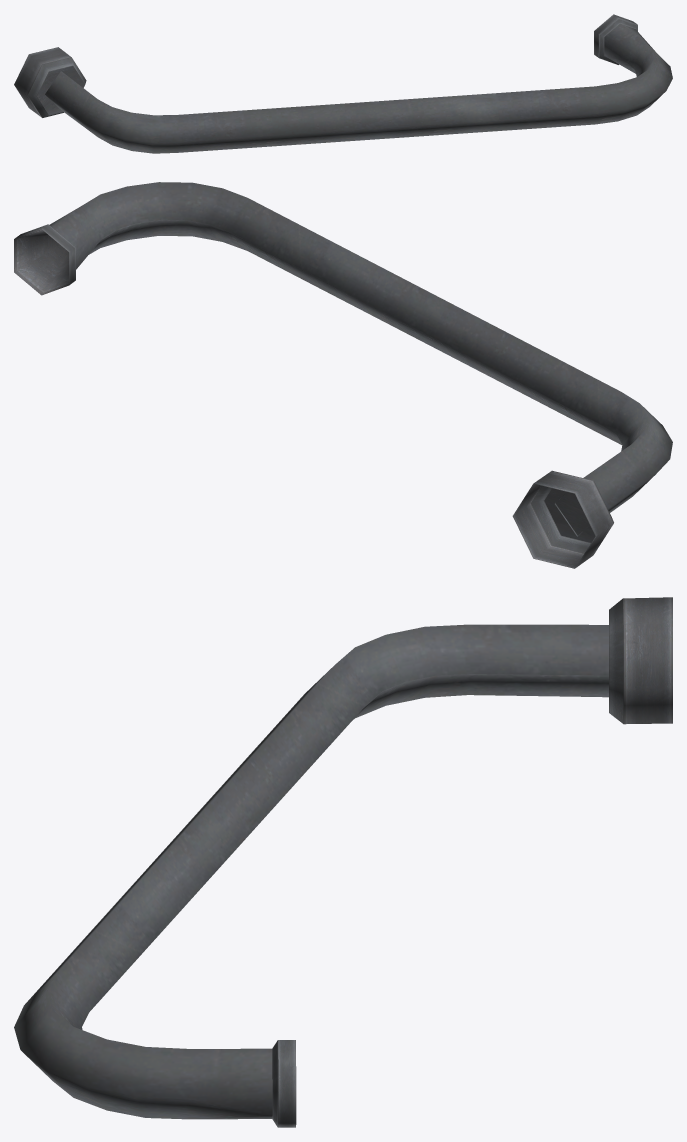
Rendered from p6_kitchen_sink_faucet_nozzle_LOD1.obj.
The picture shows the model from 3 angles, top to bottom: view 1: azimuth 30°, elevation 25°; view 2: azimuth 150°, elevation 25°; view 3: azimuth 270°, elevation 25°; orthographic projection. The views are drawn at different scales.
Parts seen in each view (by area): view 1: brush_metal_panel_karma_matte; view 2: brush_metal_panel_karma_matte; view 3: brush_metal_panel_karma_matte.
Part boxes in pixels (<box>): brush_metal_panel_karma_matte: <box>14,14,672,153</box>; brush_metal_panel_karma_matte: <box>14,182,672,568</box>; brush_metal_panel_karma_matte: <box>14,597,672,1127</box>.
Size of the model in its own units: 21.33 by 2.13 by 12.71.
Materials: 1 (1 with a texture image).
